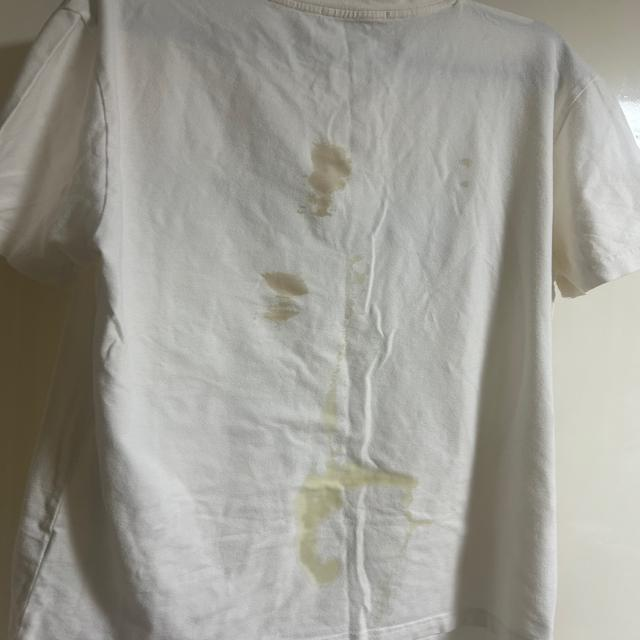stain: (287, 490, 346, 588), (303, 450, 408, 492), (300, 136, 350, 224), (262, 266, 300, 335), (459, 151, 473, 198), (311, 392, 336, 417), (400, 509, 432, 527)
